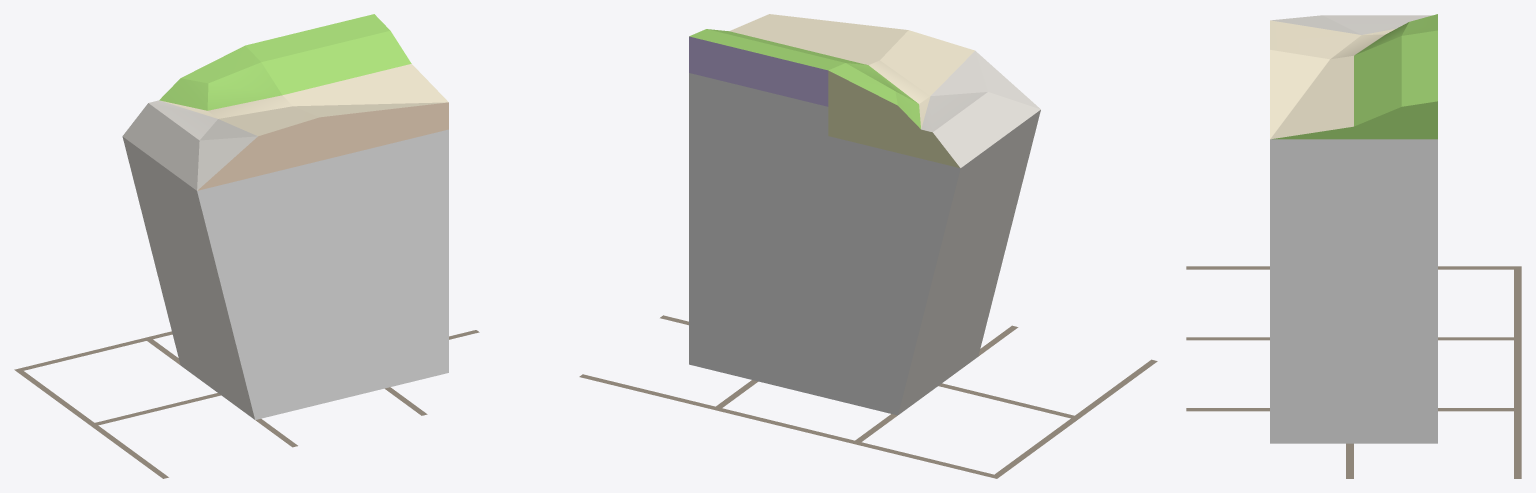
The model's file is Path_Bridge_Edge_Top_1x2.glb.
The picture shows the model from 3 angles, left to right: view 1: azimuth 30°, elevation 25°; view 2: azimuth 150°, elevation 25°; view 3: azimuth 270°, elevation 25°; orthographic projection. The views are drawn at different scales.
Parts seen in each view (by area): view 1: Path_Bridge_Edge_Top_1x2, Floor; view 2: Path_Bridge_Edge_Top_1x2, Floor; view 3: Path_Bridge_Edge_Top_1x2, Floor.
Boxes of the visible parts, x1,y1,x2,y2 form: Path_Bridge_Edge_Top_1x2: (122, 14, 448, 419); Floor: (14, 330, 479, 478); Path_Bridge_Edge_Top_1x2: (689, 14, 1040, 415); Floor: (579, 315, 1157, 478); Path_Bridge_Edge_Top_1x2: (1270, 14, 1437, 443); Floor: (1186, 266, 1521, 478).
Size of the model in its own units: 300 by 225 by 200.
8 materials, 1 textured.
